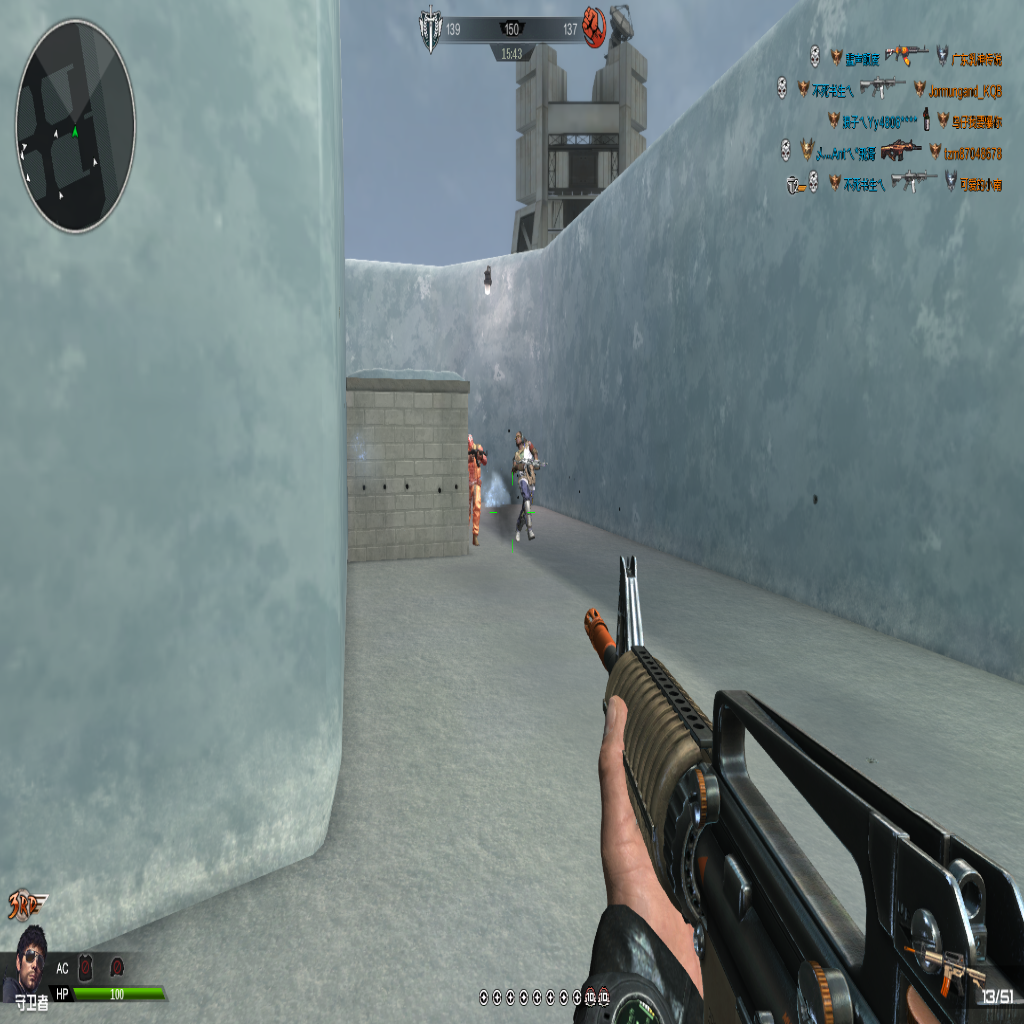tt: (511, 431, 538, 540), (467, 432, 484, 546)
